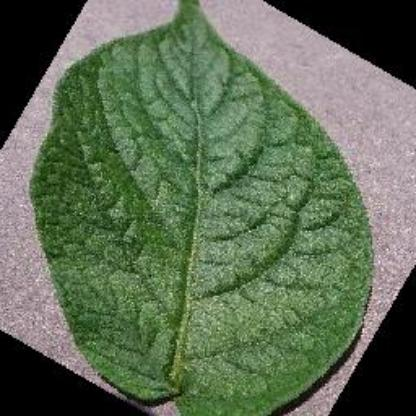Healthy-plant: (14, 7, 400, 414)
